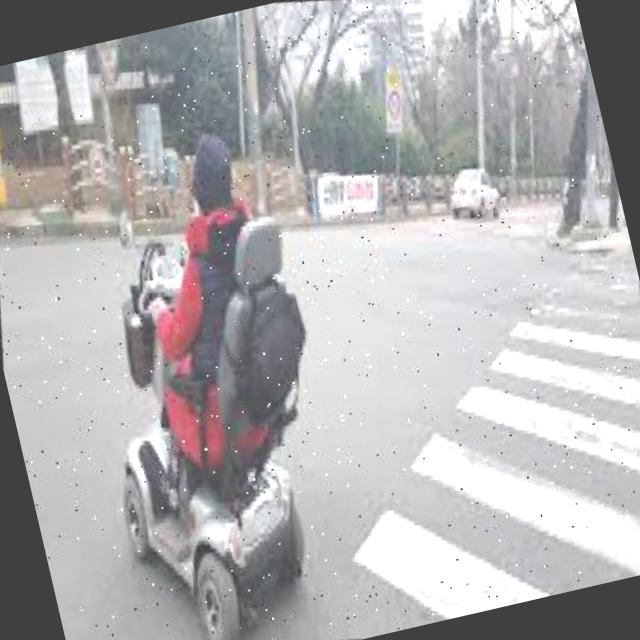Person: (21, 104, 393, 640)
